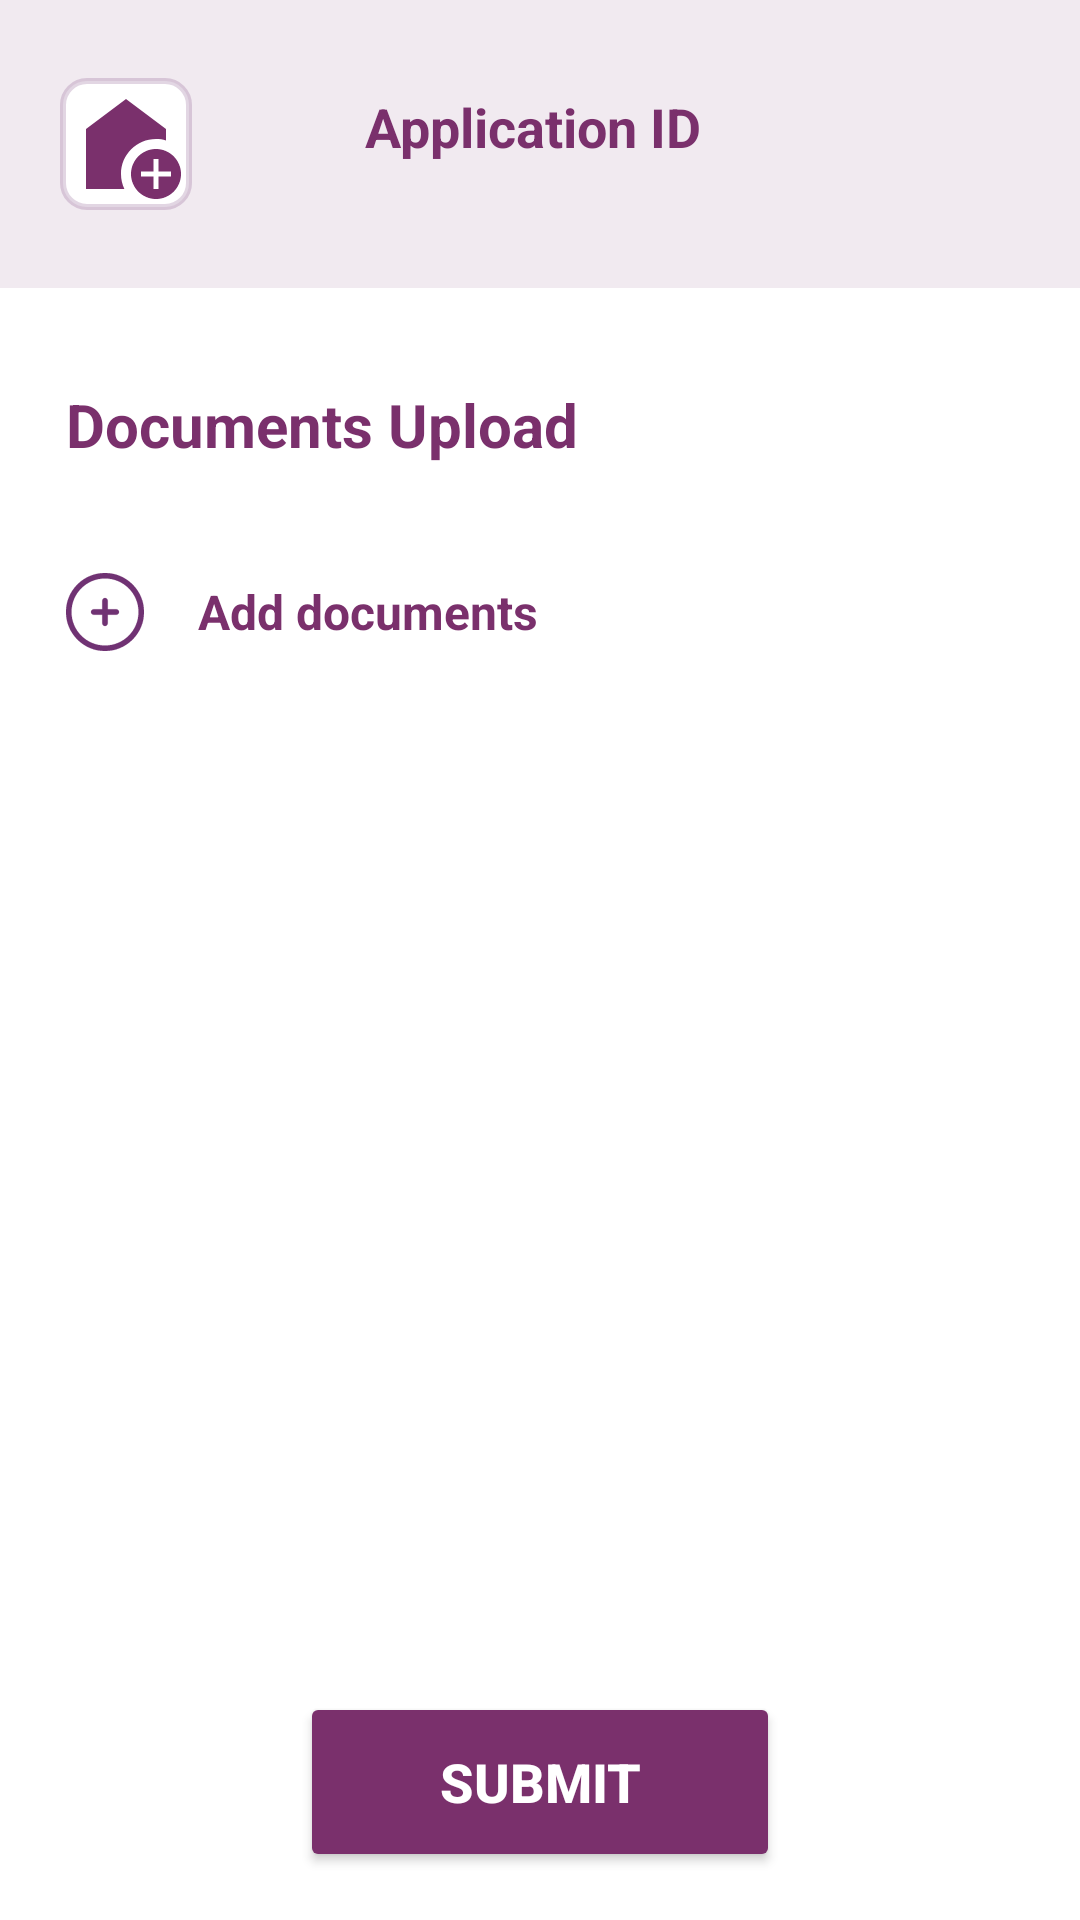

Icon bounding boxes for this 1080 × 1920 phone screenshot, format bbox(x1, y1, x2, y2):
add home: bbox(60, 78, 192, 210)
plus: bbox(66, 573, 144, 651)
